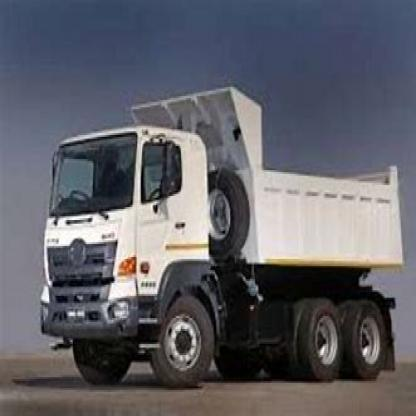dump_truck: (39, 76, 406, 394)
